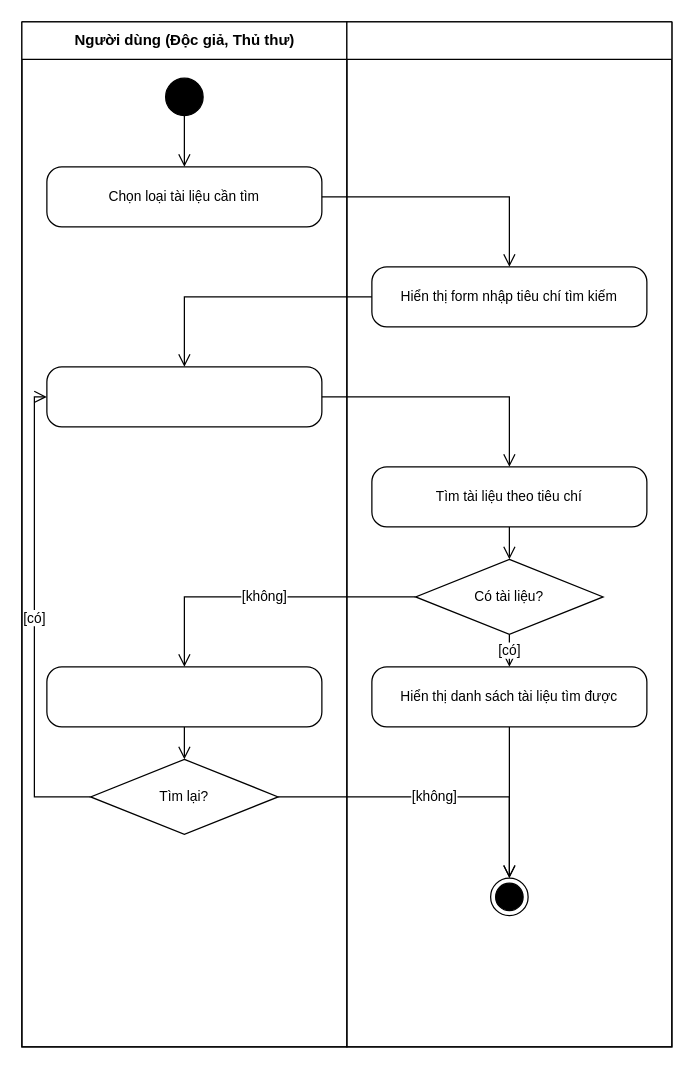
Some shapes in this 694 by 1069 pixel diagram are drawn without their labels. Here are the shapes that lost their labels. From the top down, the box of each, then its label:
(46, 366, 322, 427): Nhập tiêu chí: tựa sách, tác giả, chủ đề, năm xuất bản
(346, 21, 672, 1047): Hệ thống
(46, 666, 322, 727): Thông báo không có tài liệu theo yêu cầu
